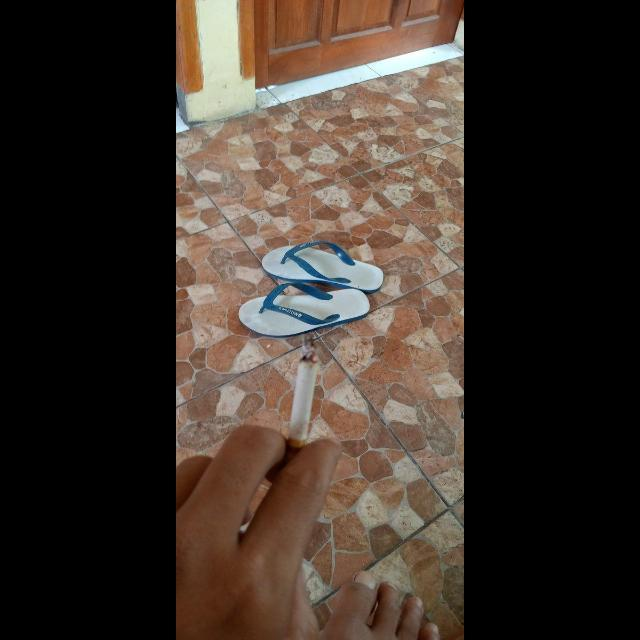rokok: (279, 340, 323, 442)
